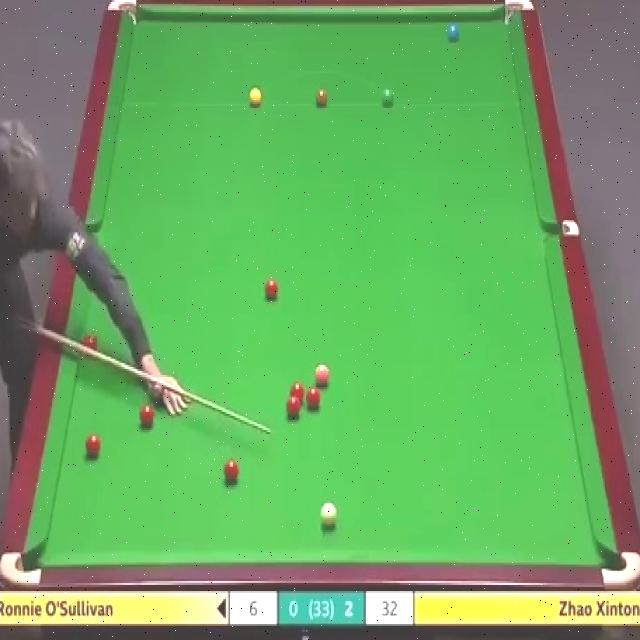blue-ball: (446, 18, 461, 44)
brown-ball: (315, 88, 329, 110)
green-ball: (380, 88, 394, 109)
pink-ball: (312, 364, 330, 388)
red-ball: (85, 432, 102, 460), (138, 405, 155, 432), (223, 458, 239, 485), (285, 396, 302, 420), (82, 333, 98, 358), (264, 277, 280, 302), (305, 386, 322, 409), (288, 382, 306, 403)
white-ball: (318, 501, 338, 532)
yellow-ball: (249, 87, 262, 108)
